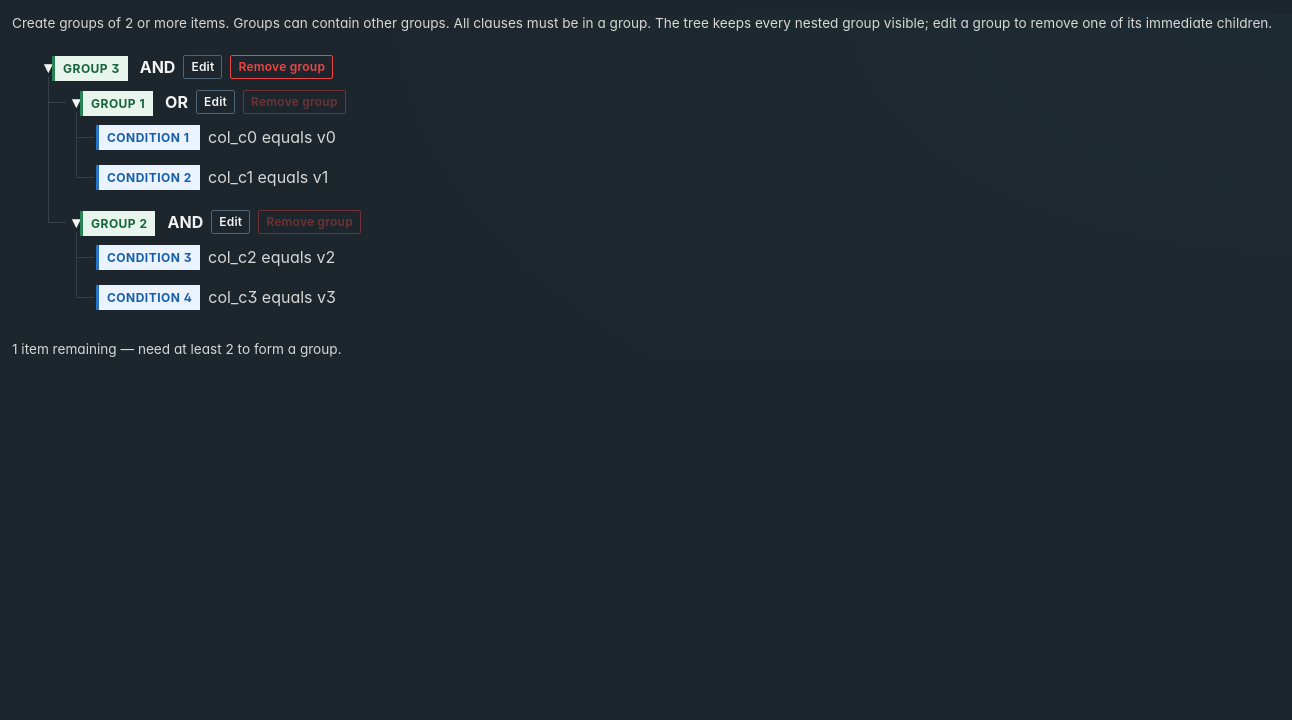
Scenario: GroupingTreeEditor (per_grouping) — multi-group behaviour › removes any and parent without deleting its child groups
Click the button with aria-label "Remove Group 3" at {"x": 282, "y": 67}, box [230,55,333,79]
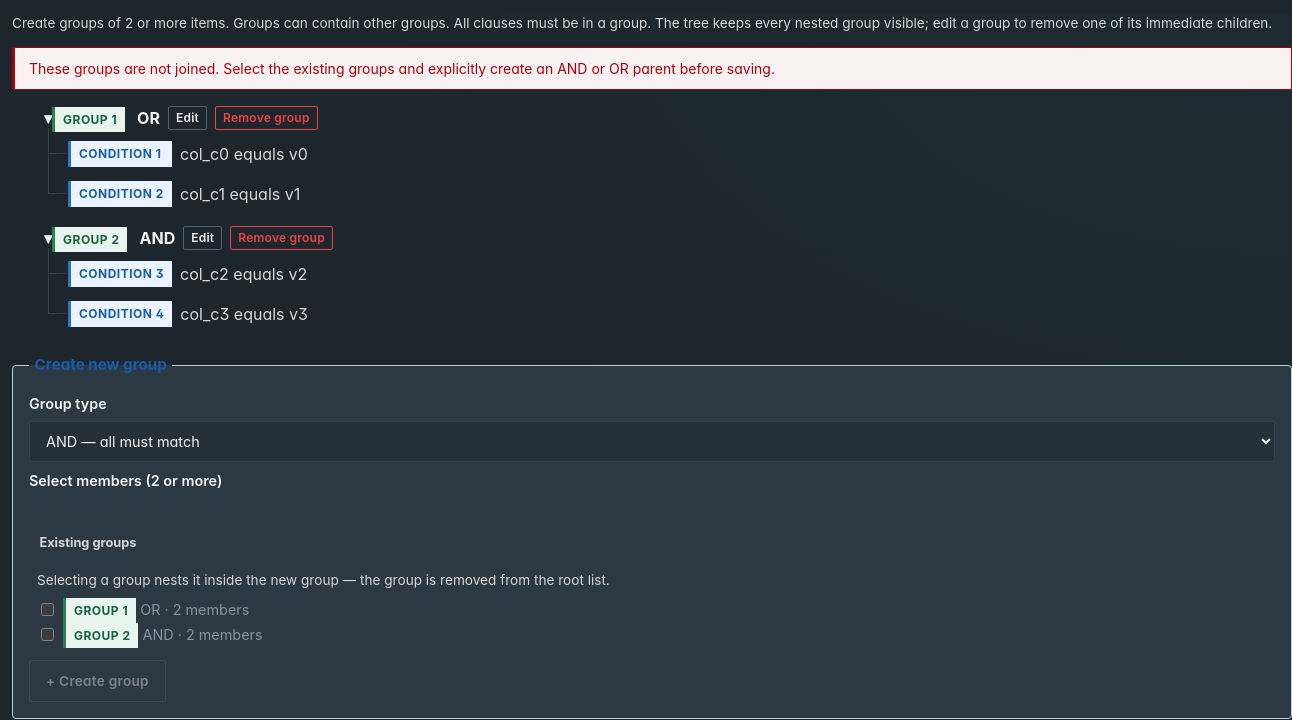
Result: the checkbox named "Group 1 (OR, 2 members)" is shown at [41,603,54,616]
Result: the checkbox named "Group 2 (AND, 2 members)" is shown at [41,628,54,642]
Result: the message shows "These groups are not joined" at [29,60,775,77]
Click the button with aria-label "Remove Group 1" at {"x": 266, "y": 118}, box [215,106,318,130]
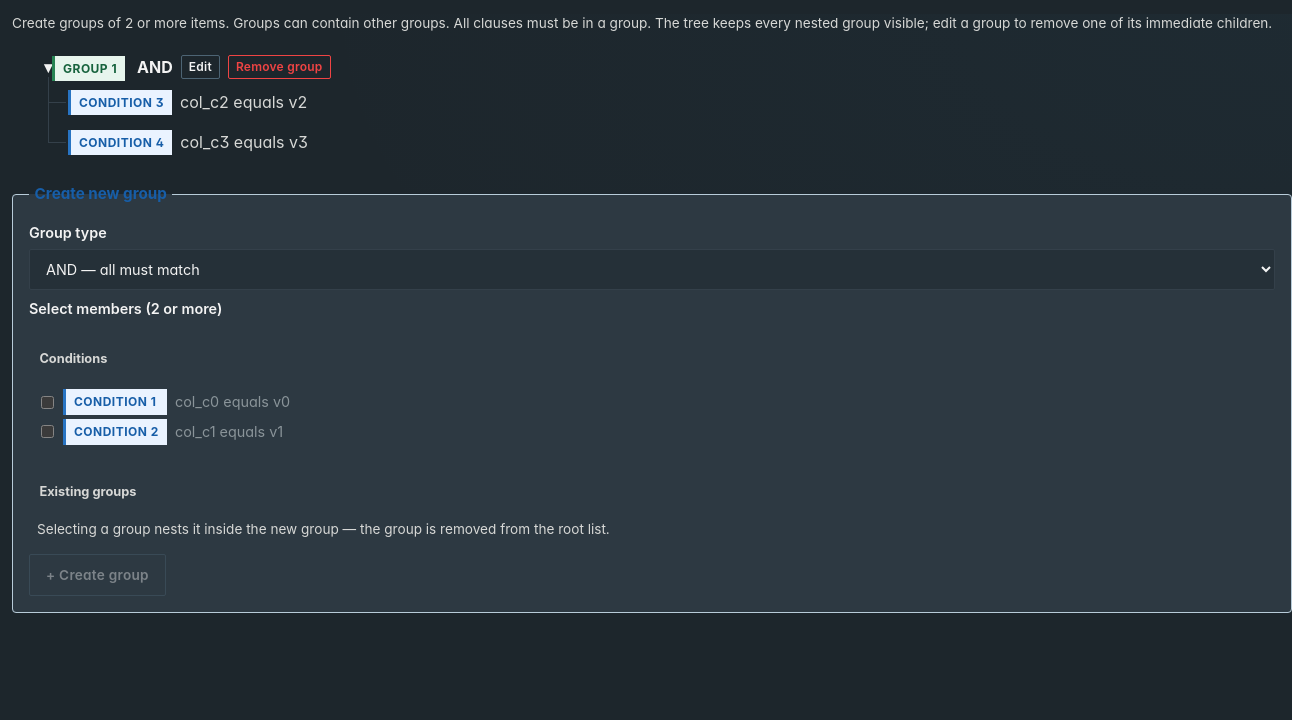
Result: the list item with test id "tree-Group 1" shows "col_c2 equals v2" at [180,92,307,112]
Result: the checkbox named "Condition 1: col_c0 equals v0" is shown at [41,396,54,409]
